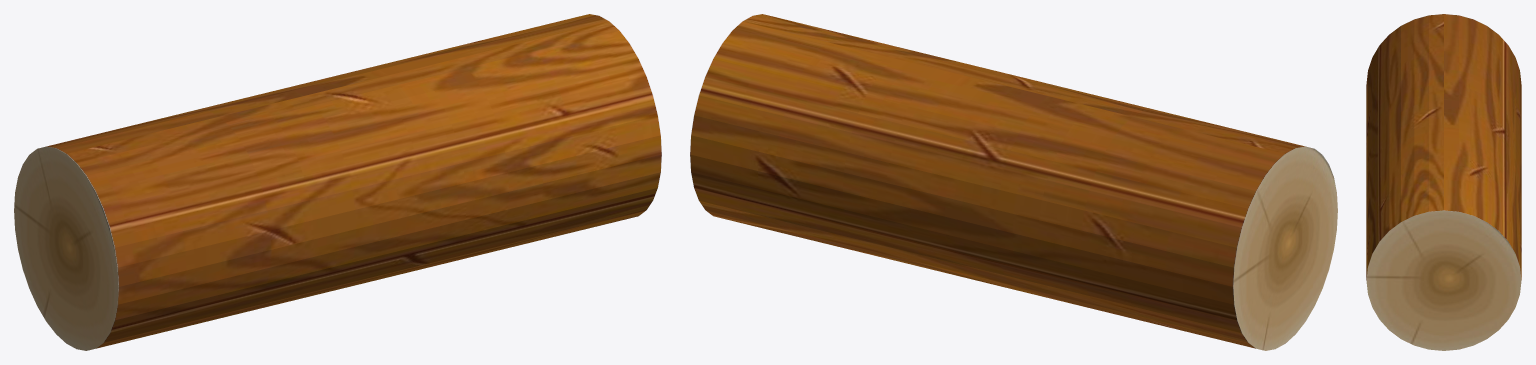
Rendered from Log.fbx.
3 renders of one model, left to right at view 1: azimuth 30°, elevation 25°; view 2: azimuth 150°, elevation 25°; view 3: azimuth 270°, elevation 25°, orthographic. The views are drawn at different scales.
Visible parts, largest first — view 1: Cylinder; view 2: Cylinder; view 3: Cylinder.
Boxes of the visible parts, left/top/right/bottom form: Cylinder: left=14, top=14, right=661, bottom=350; Cylinder: left=690, top=14, right=1337, bottom=350; Cylinder: left=1366, top=14, right=1521, bottom=350.
Bounding box in the file's own units: 600 × 200 × 200.
